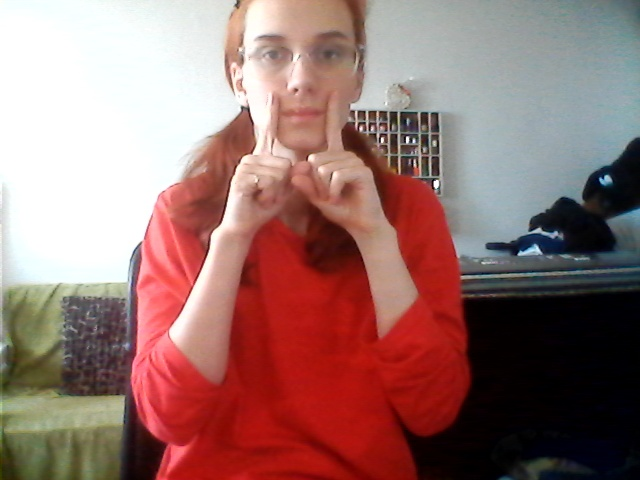h: (232, 87, 381, 219)
